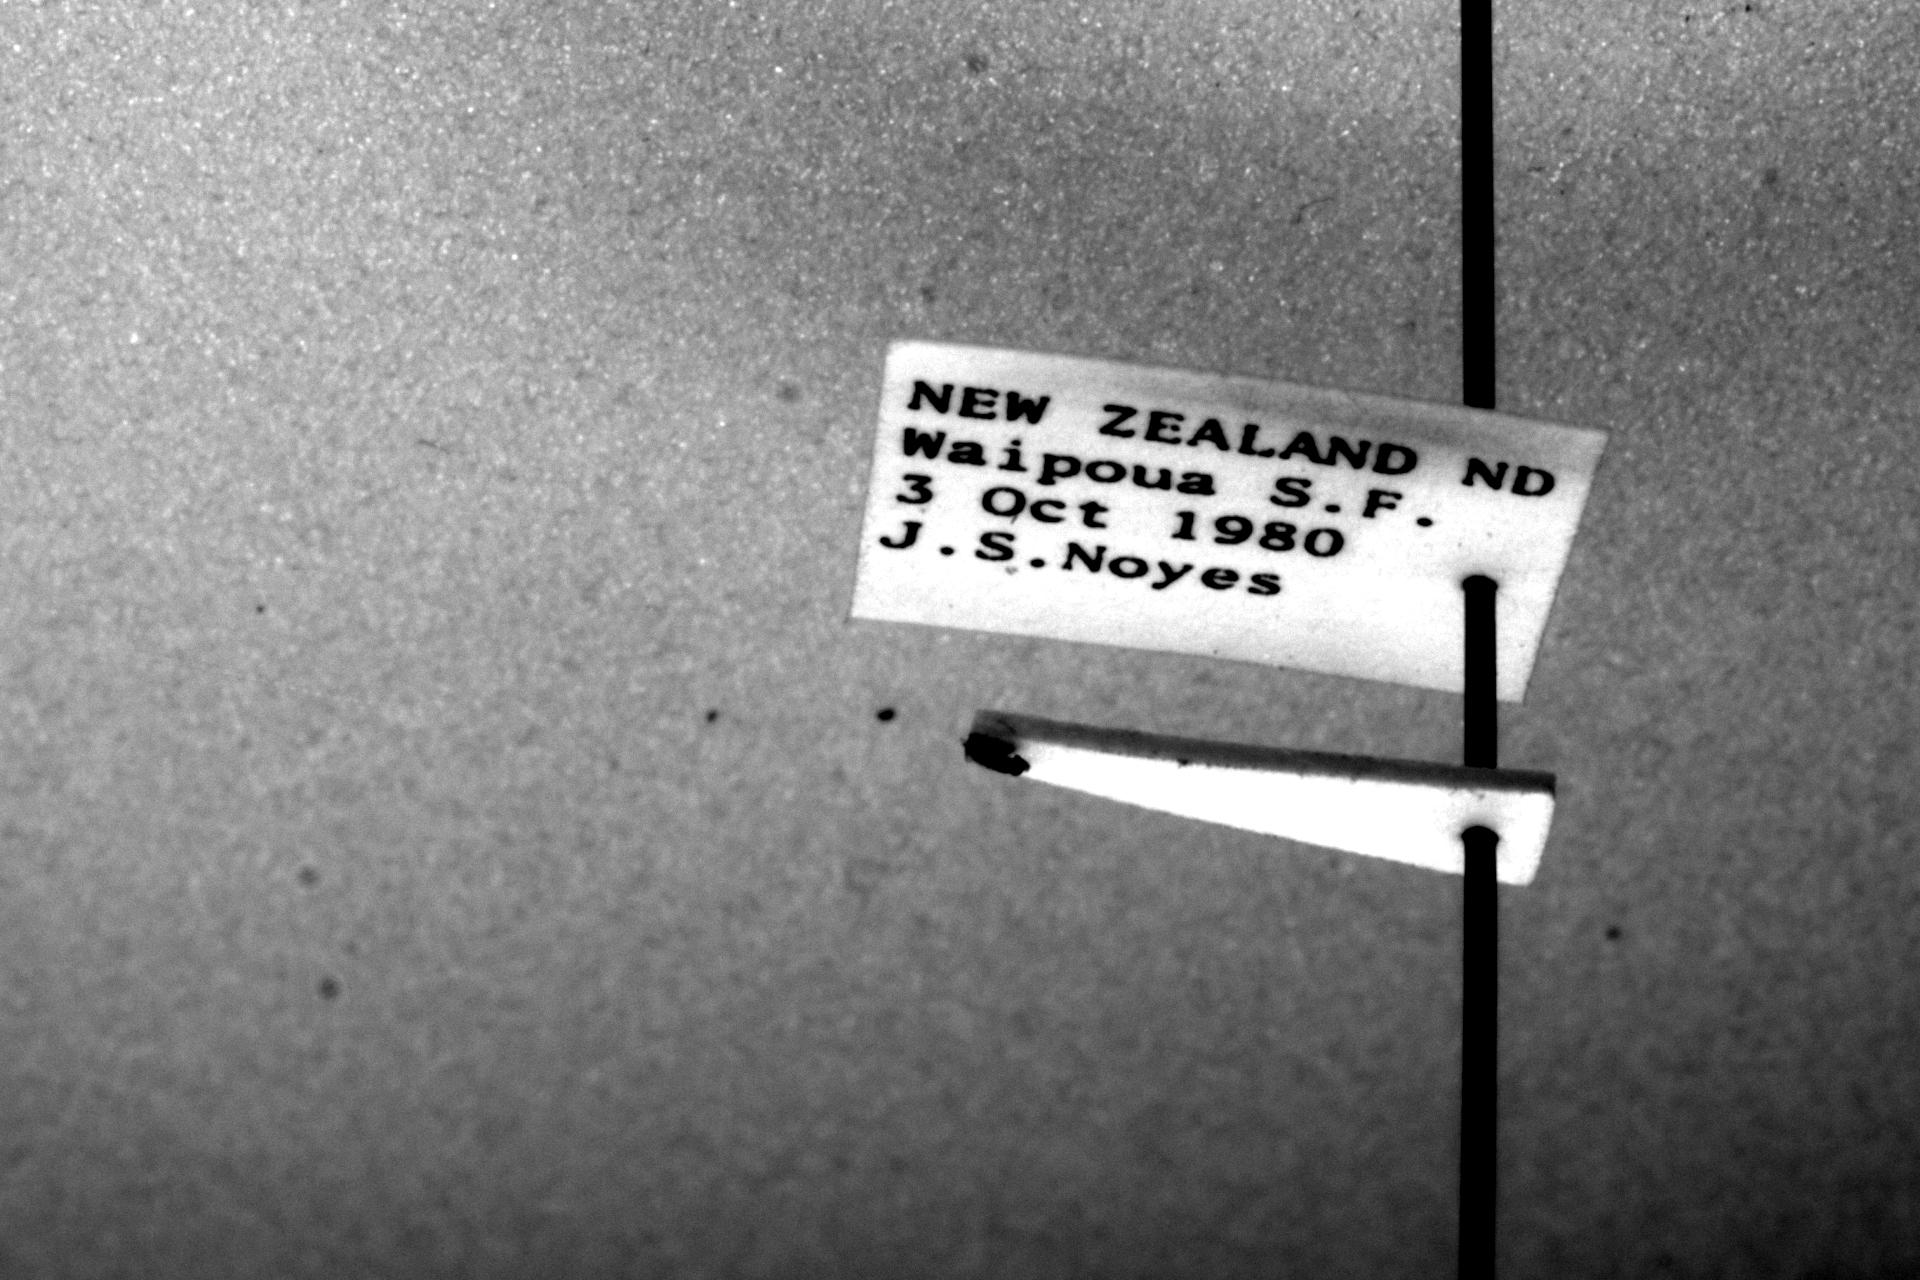typed_label: (851, 341, 1606, 701)
